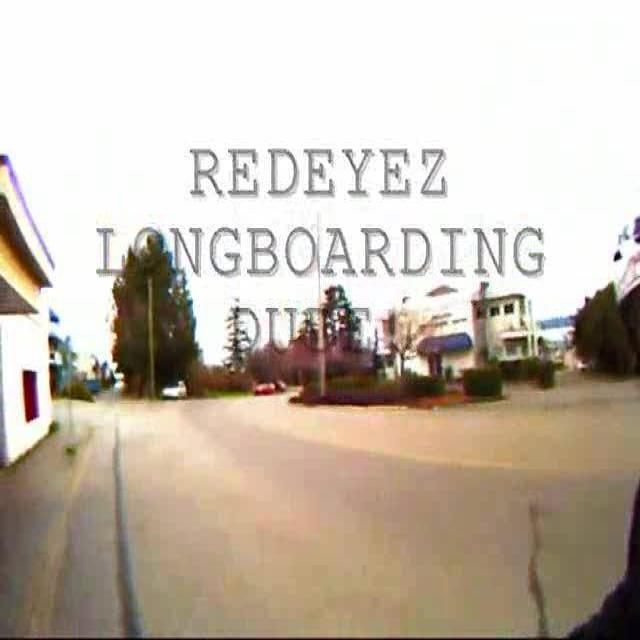other: (253, 383, 442, 478), (51, 245, 104, 348)
